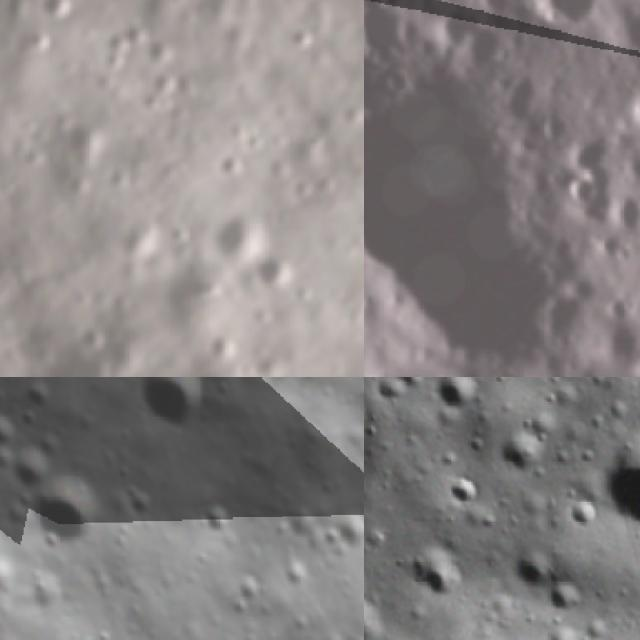crater: (364, 34, 626, 376), (590, 405, 640, 543), (29, 474, 109, 556), (122, 377, 217, 437), (514, 0, 617, 44), (496, 422, 569, 479), (210, 210, 274, 274), (364, 0, 424, 67), (411, 540, 466, 601), (217, 560, 270, 618), (2, 439, 58, 492), (194, 489, 248, 542), (453, 19, 505, 74), (423, 0, 480, 50), (251, 248, 302, 300), (431, 377, 491, 417), (596, 311, 640, 364), (598, 182, 640, 236), (446, 472, 491, 520), (607, 0, 640, 62), (592, 283, 640, 325), (138, 31, 184, 70), (544, 577, 587, 615), (0, 401, 32, 452), (375, 60, 416, 96), (567, 170, 601, 210), (145, 68, 186, 100), (237, 124, 274, 158), (623, 72, 640, 143), (211, 150, 245, 183), (567, 495, 598, 531), (31, 0, 73, 22)
